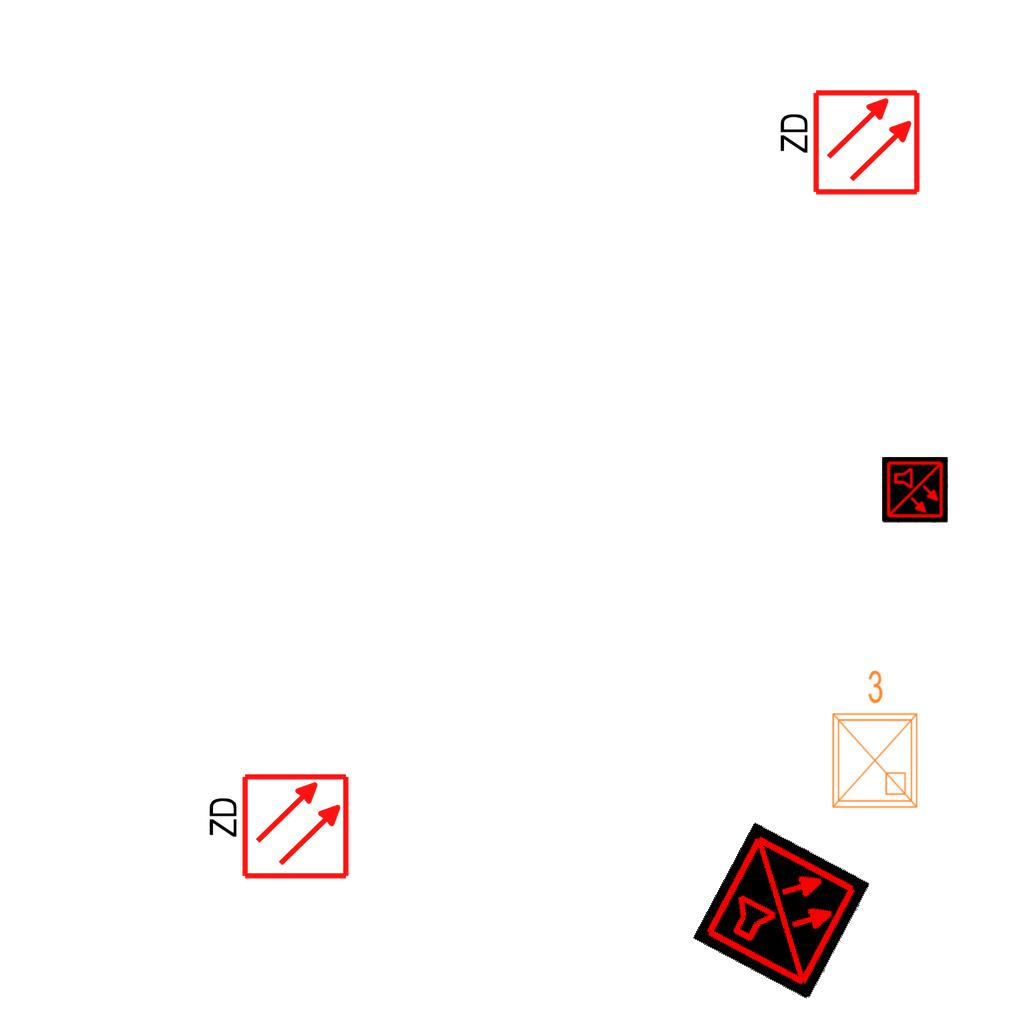Einbaudownlights_LED_Konferenzraeume: (821, 665, 925, 815)
OKW_Multisensormelder_(Kombination_optischer_Rauch-Kahlenmonoxid_Waerme-Melder): (692, 821, 872, 1001), (882, 457, 948, 523)
ZD_Melder_in_Zwischendecke_mit_Revisionsoeffnung_mind_40_x_40_cm: (202, 771, 351, 885), (773, 87, 922, 201)
